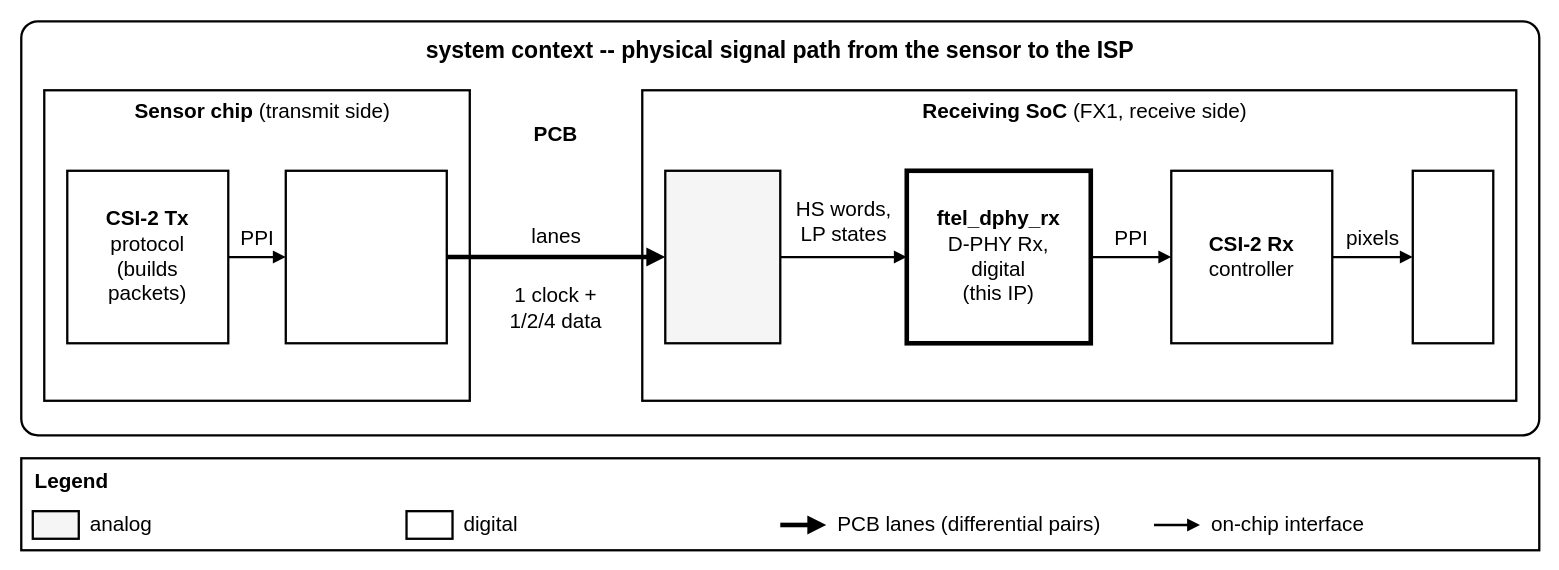
Image size: 1559x570. Some labels were removed from this diagram. Each missing label, with the centre of its shape:
AFE (analog): point 722,256
D-PHY Tx digital + analog driver: point 365,256
ISP / DDR: point 1452,256
